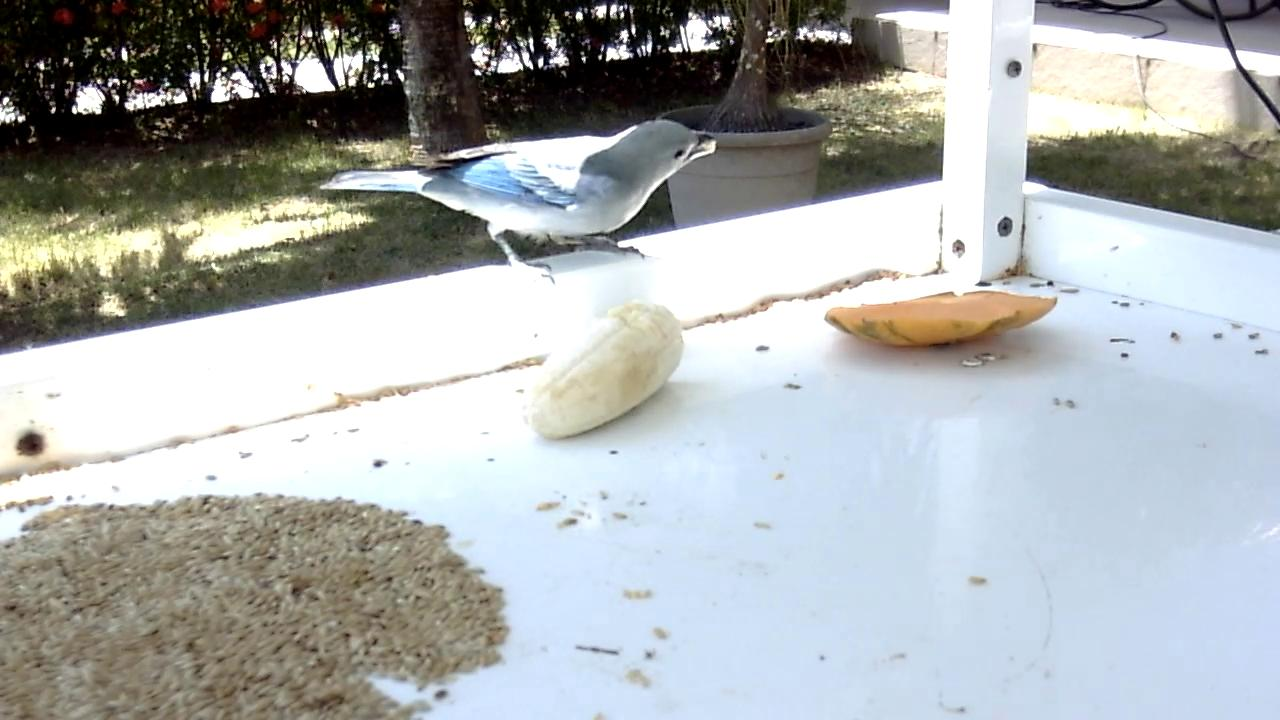sanhaco_da_amazonia: (321, 120, 723, 283)
